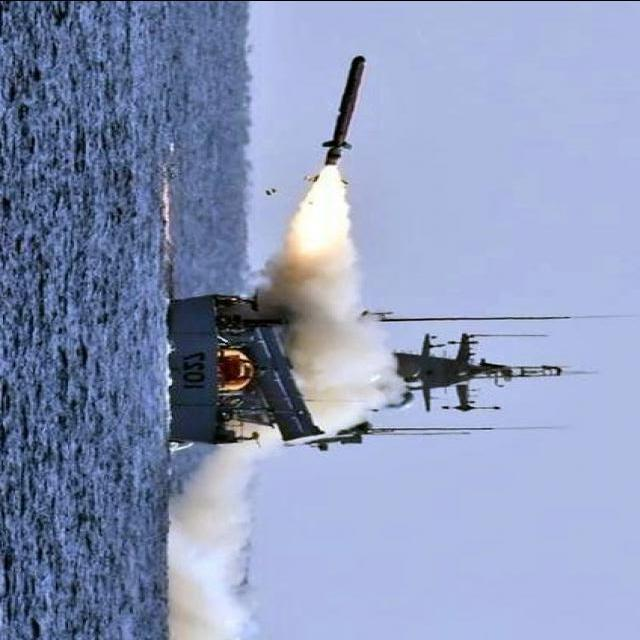missile: (318, 51, 367, 169)
